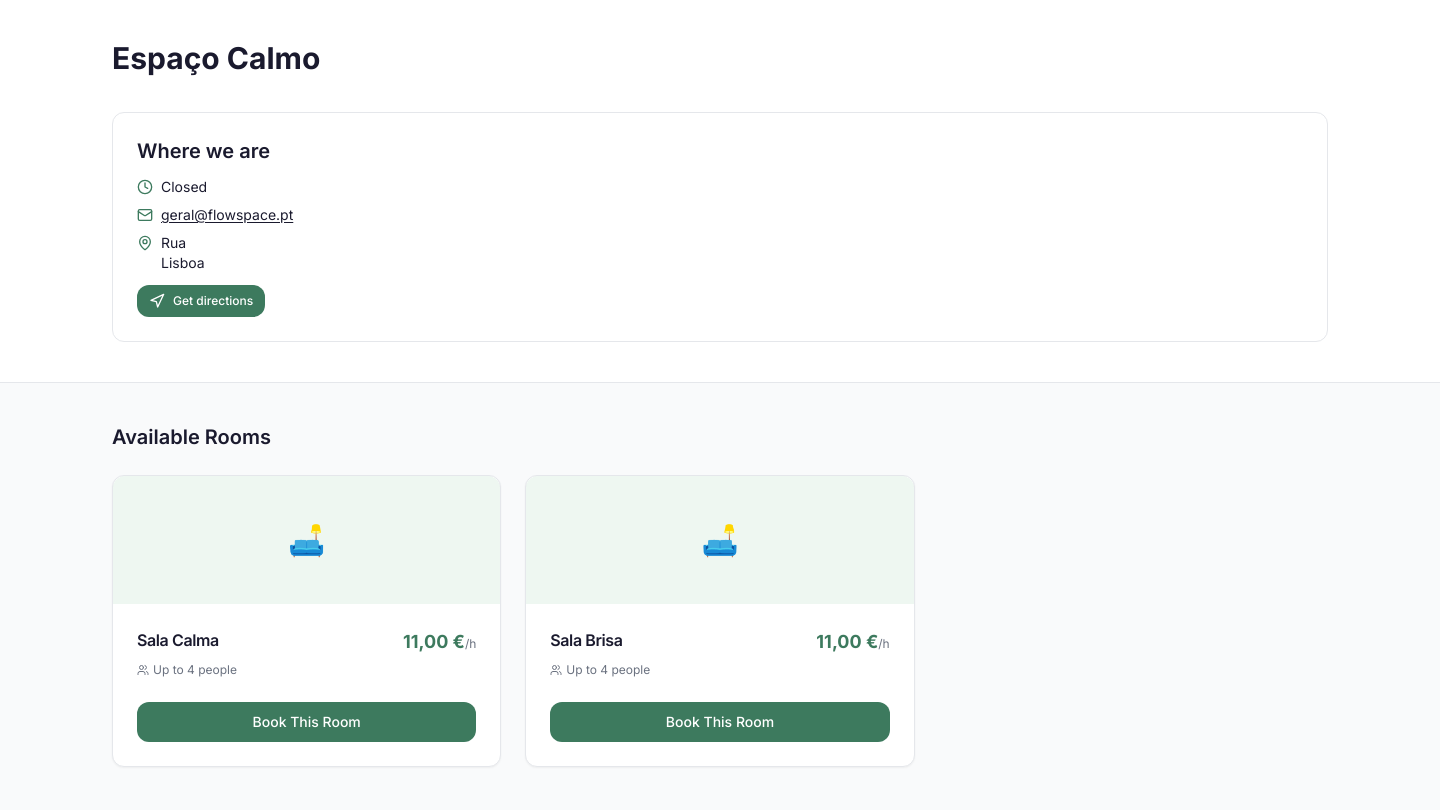
Scenario: Space page in English › titles the rooms, the calendar and its help in English
This screenshot has width=1440, height=810.
Check: the heading "Available Rooms" is shown, box [112,425,271,449]
Check: the element "Where we are" is shown, box [112,112,1328,342]
Click the button "Book This Room" below "Sala Brisa" at (720, 722), box [550,702,890,742]
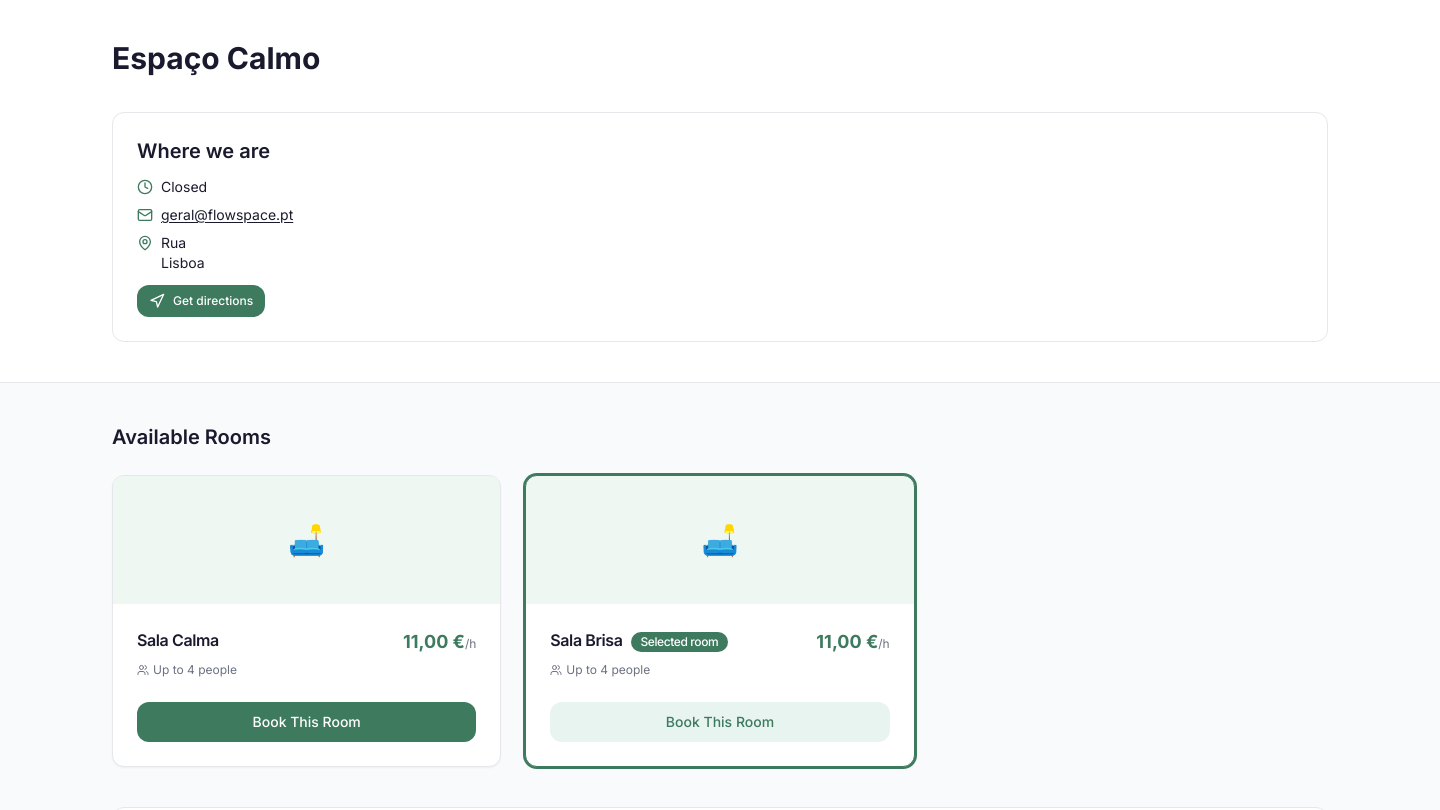
Check: the text "Selected room" is shown, box [630,632,728,652]
